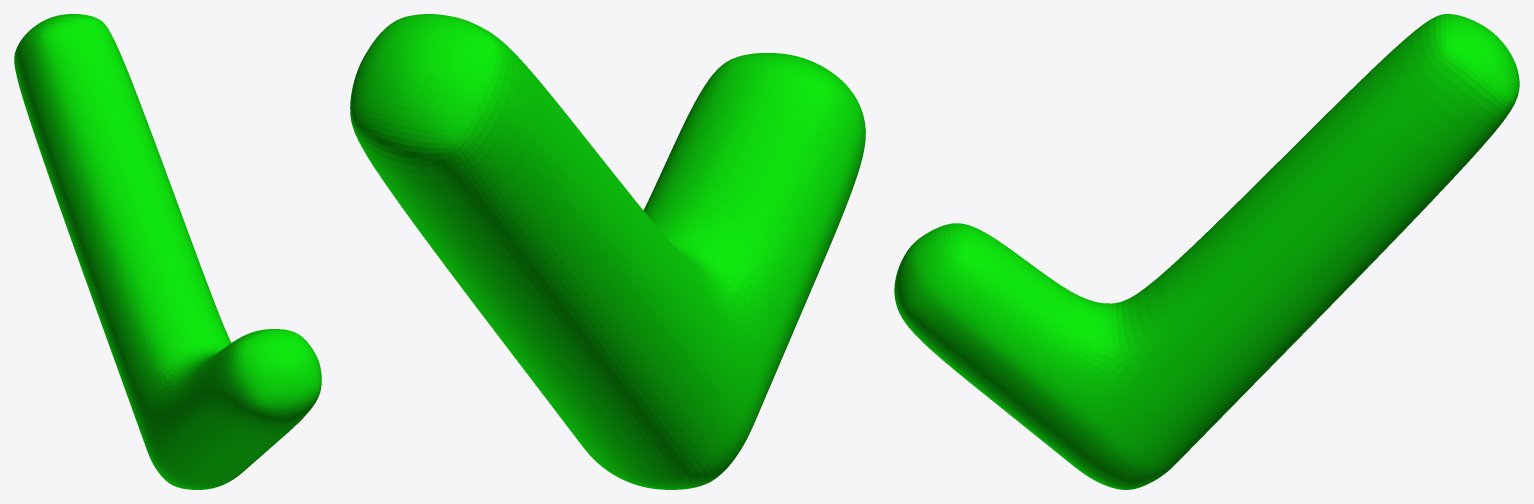
Rendered from tick.glb.
3 renders of one model, left to right at view 1: azimuth 30°, elevation 25°; view 2: azimuth 150°, elevation 25°; view 3: azimuth 270°, elevation 25°, orthographic. The views are drawn at different scales.
Parts seen in each view (by area): view 1: Plane; view 2: Plane; view 3: Plane.
Boxes of the visible parts, x1,y1,x2,y2 form: Plane: [14, 14, 321, 489]; Plane: [350, 14, 865, 489]; Plane: [894, 14, 1519, 489].
Size of the model in its own units: 0.368 by 1.34 by 1.65.
